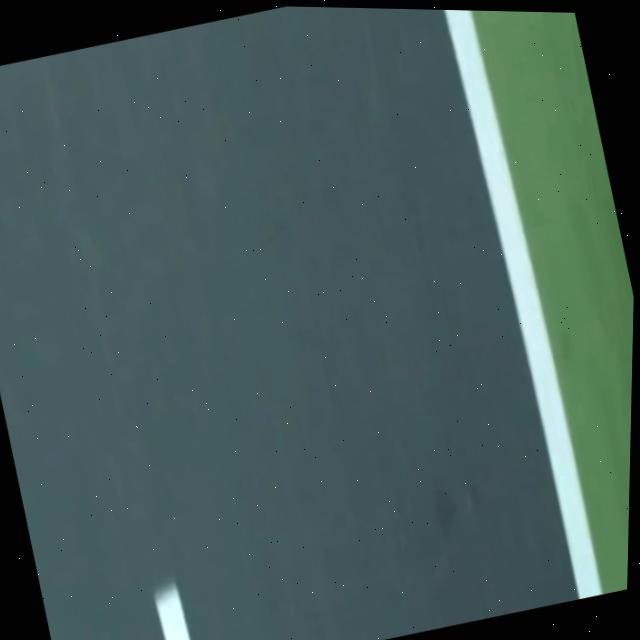center: (154, 583, 189, 640)
right: (443, 10, 601, 599)
